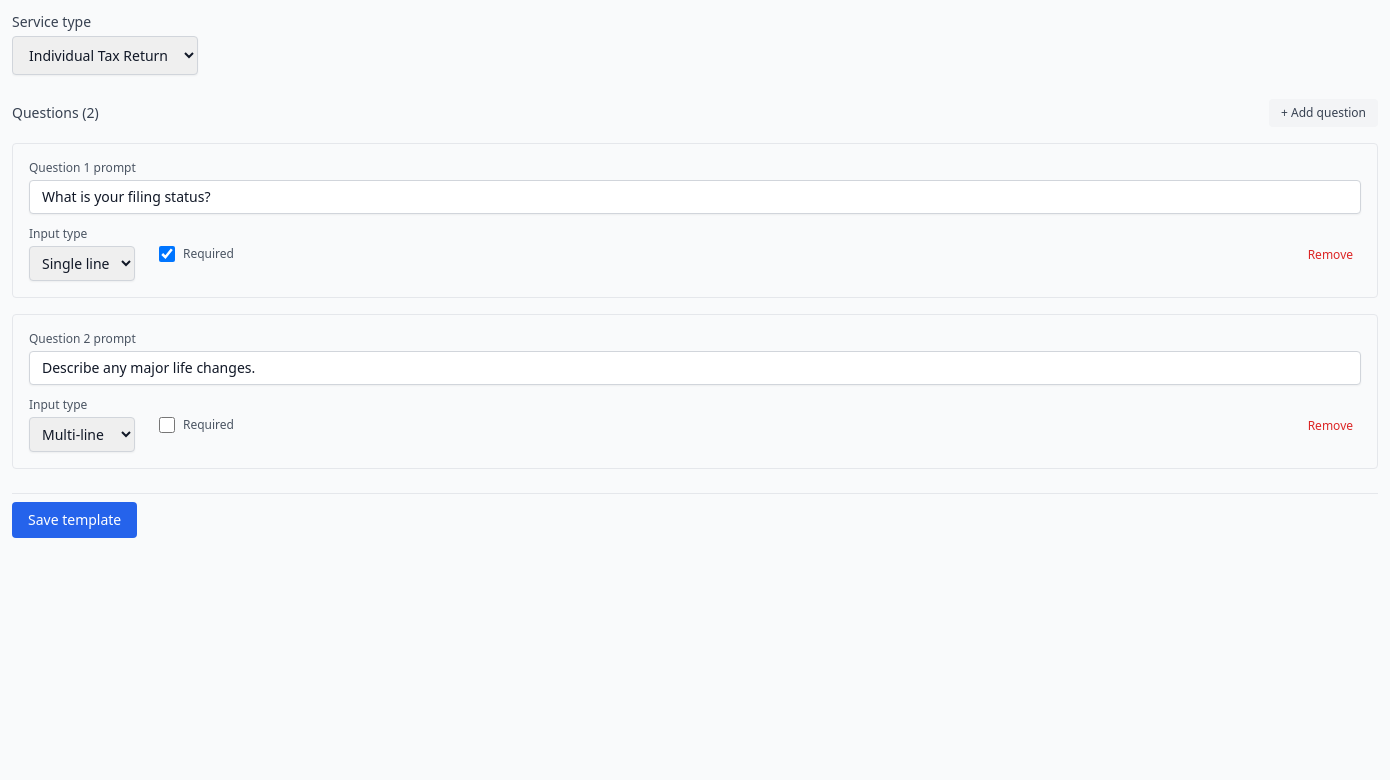
Scenario: QuestionnaireTemplateEditor › shows error alert when action returns unauthorized error
Click the button with test id "save-template".
click(75, 520)  # box [12,502,137,538]
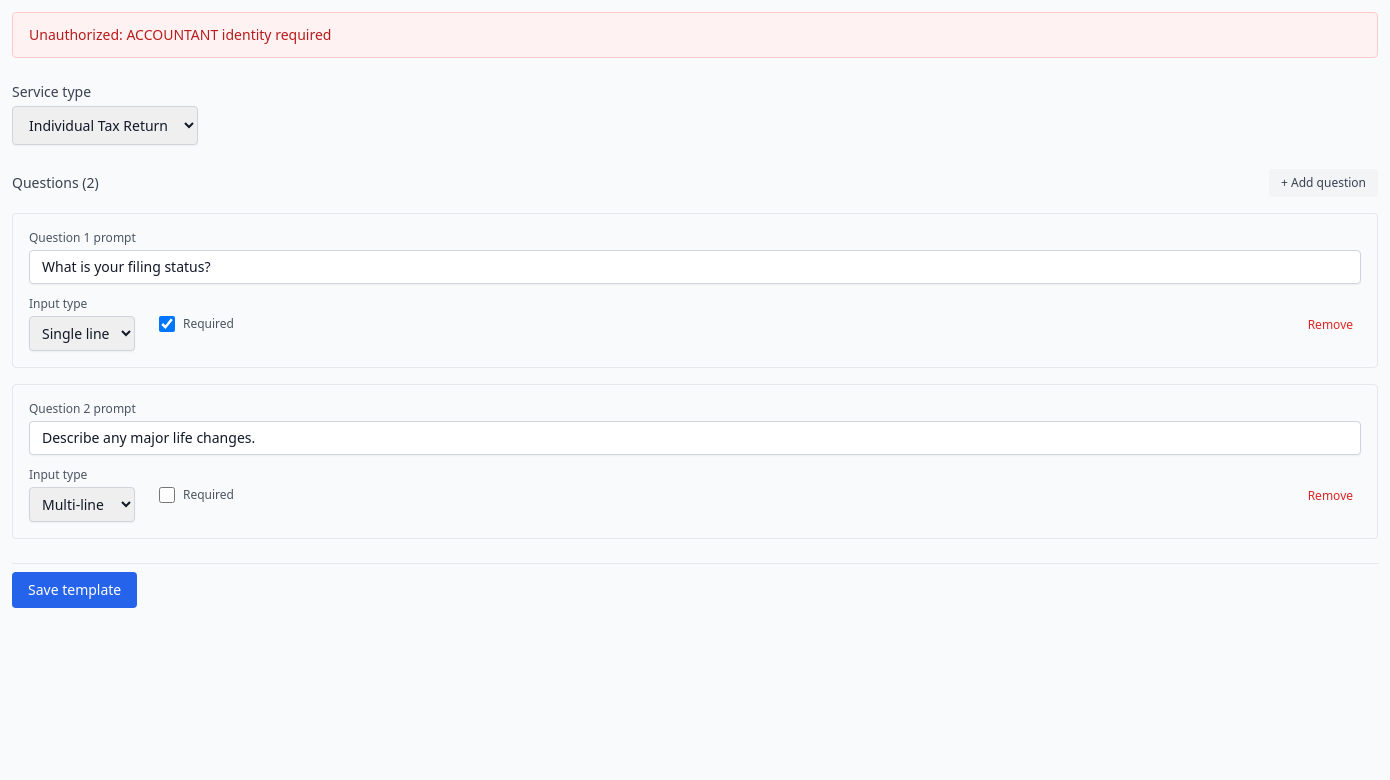
Check: the message reads "Unauthorized: ACCOUNTANT identity required", box [29,25,331,44]
